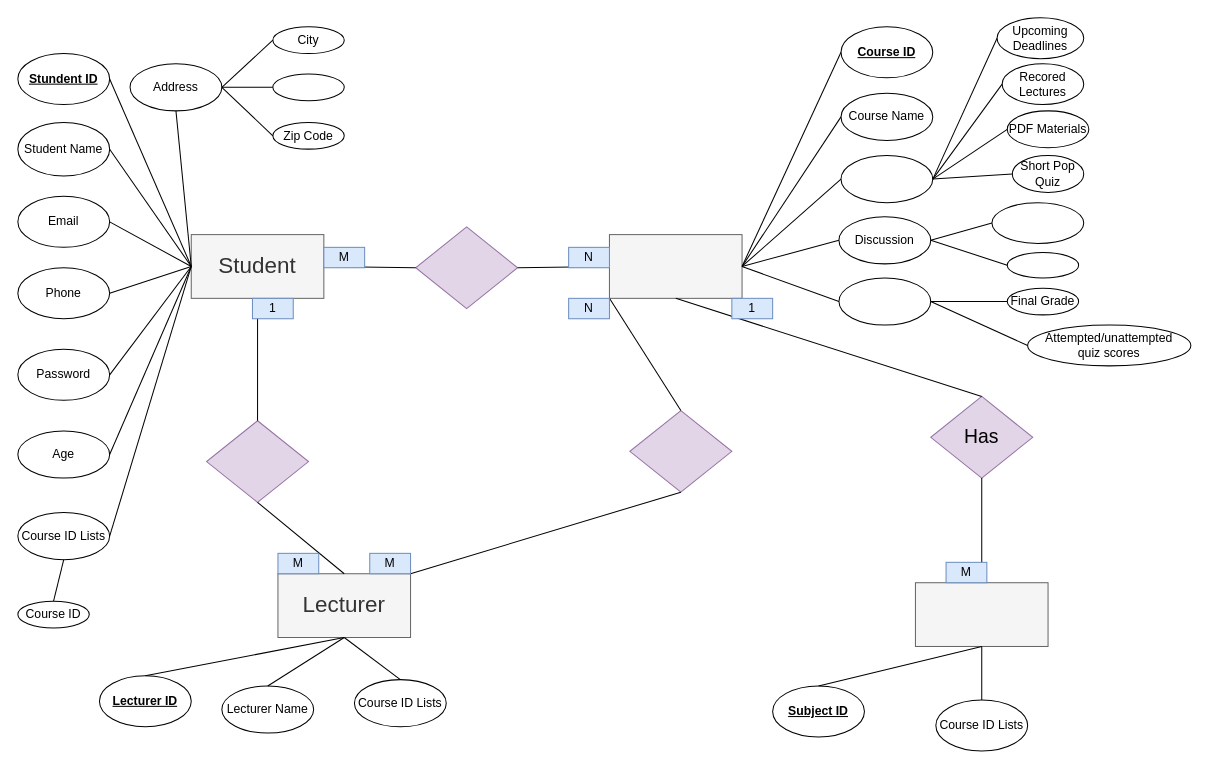
Image size: 1209x769. Some labels were removed from this diagram. Each missing label, with the box of its shape:
Course: (608, 234, 742, 298)
Course Contents: (840, 155, 933, 203)
Course Subject: (914, 582, 1048, 646)
Enrolls: (415, 226, 518, 309)
FAQ: (1006, 251, 1079, 278)
Live Recorded Lectures: (991, 202, 1084, 243)
Progress: (838, 277, 931, 325)
Street: (272, 73, 344, 101)
Takes: (629, 410, 732, 492)
Teaches: (206, 420, 309, 502)
